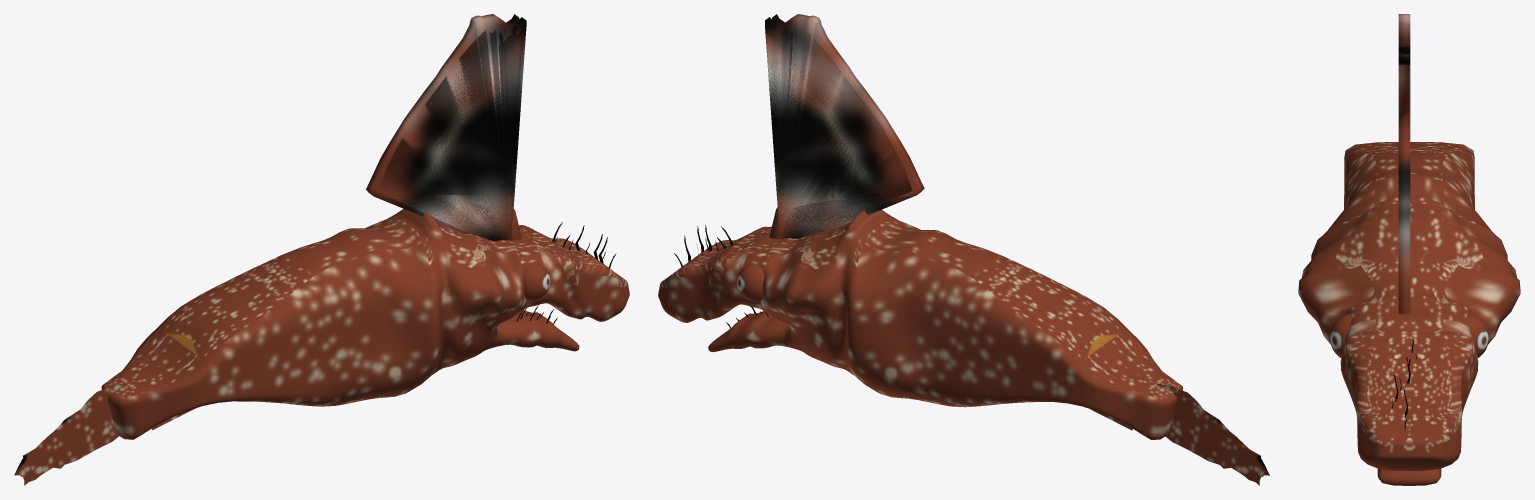
Rendered from pezb2.fbx.
3 renders of one model, left to right at view 1: azimuth 30°, elevation 25°; view 2: azimuth 150°, elevation 25°; view 3: azimuth 270°, elevation 25°, orthographic. The views are drawn at different scales.
Visible parts, largest first — view 1: Plano, Plano.001, Vert; view 2: Plano, Plano.001, Vert; view 3: Plano, Plano.001, Vert.001.
Part boxes in pixels (bbox=[...]): Plano: bbox=[101, 209, 629, 439]; Plano.001: bbox=[366, 14, 526, 240]; Vert: bbox=[14, 382, 195, 485]; Plano: bbox=[658, 209, 1182, 439]; Plano.001: bbox=[765, 14, 924, 238]; Vert: bbox=[1090, 383, 1269, 485]; Plano: bbox=[1298, 142, 1520, 485]; Plano.001: bbox=[1398, 14, 1410, 313]; Vert.001: bbox=[1392, 339, 1416, 429].
Size of the model in its own units: 4.24 by 2.41 by 1.13.
Materials: 1 (1 with a texture image).
